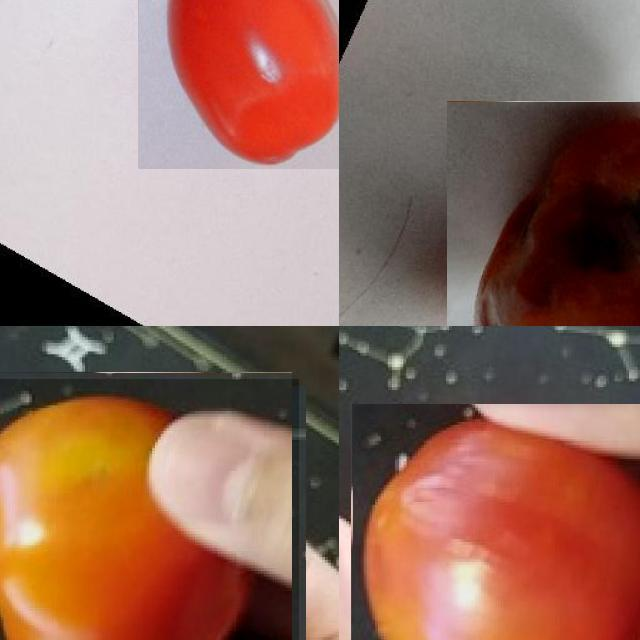Fresh Tomato: (0, 378, 299, 640), (138, 0, 339, 168)
Rotten Tomato: (351, 404, 640, 640), (447, 101, 640, 326)
